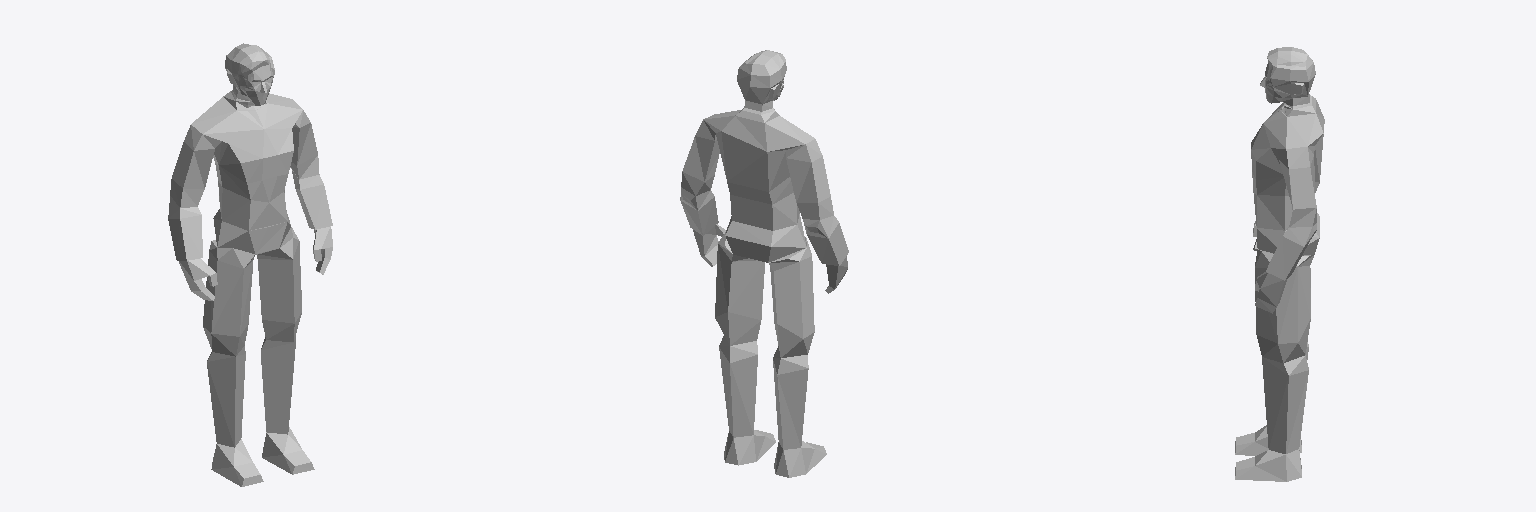
File: Manuel169.obj
3 views of the same model, side by side, from view 1: azimuth 30°, elevation 25°; view 2: azimuth 150°, elevation 25°; view 3: azimuth 270°, elevation 25° (orthographic).
Visible parts, largest first — view 1: leon; view 2: leon; view 3: leon.
Boxes of the visible parts, <box> form: leon: <box>168,43,332,486</box>; leon: <box>680,50,848,477</box>; leon: <box>1235,47,1324,481</box>.
Bounding box in the file's own units: 4.68 × 12.19 × 2.4.